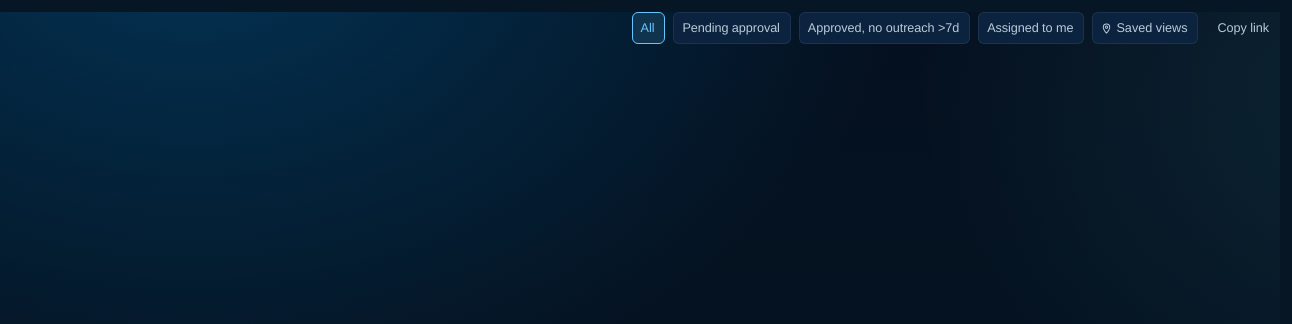
Saved views panel › says Saved views unavailable with an explicit Retry and no alert role
This screenshot has width=1292, height=324.
Click the button "Saved views" at (1145, 28), box left=1092, top=12, right=1198, bottom=44
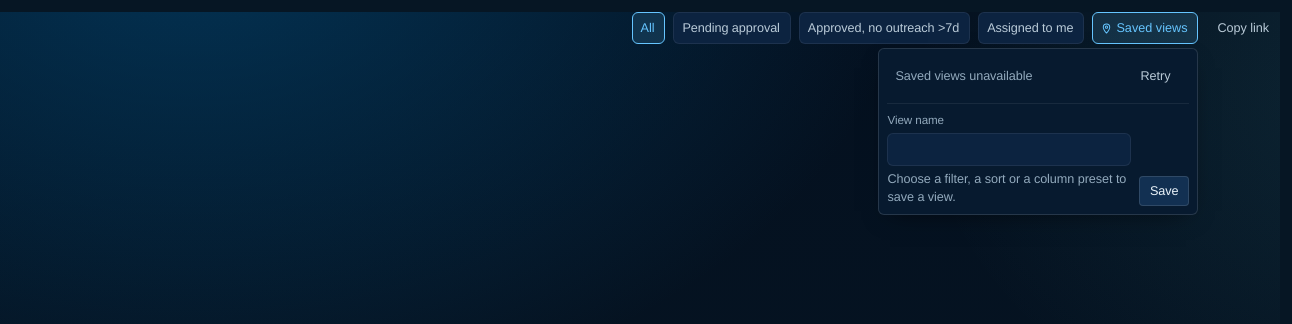
Click the button "Retry" at (1156, 76), box left=1130, top=61, right=1182, bottom=91
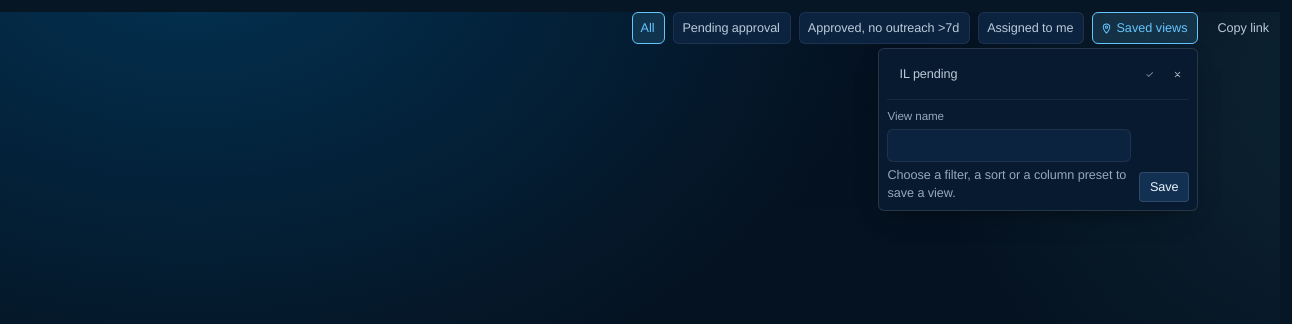
Expected: the link with class "lead-queue-saved-views__link" reads "IL pending", left=900, top=66, right=958, bottom=82
